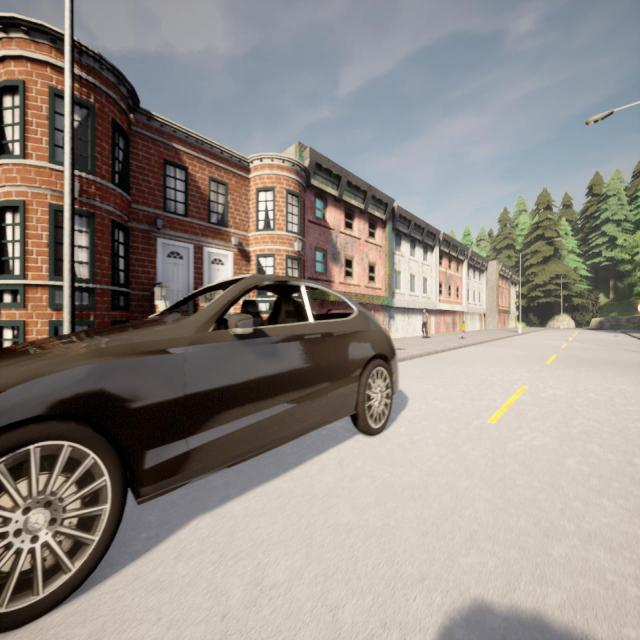Pedestrian: (421, 309, 429, 338), (460, 320, 466, 340)
Traffic_Signs: (636, 300, 640, 316)
Vehicle: (0, 274, 398, 630)
